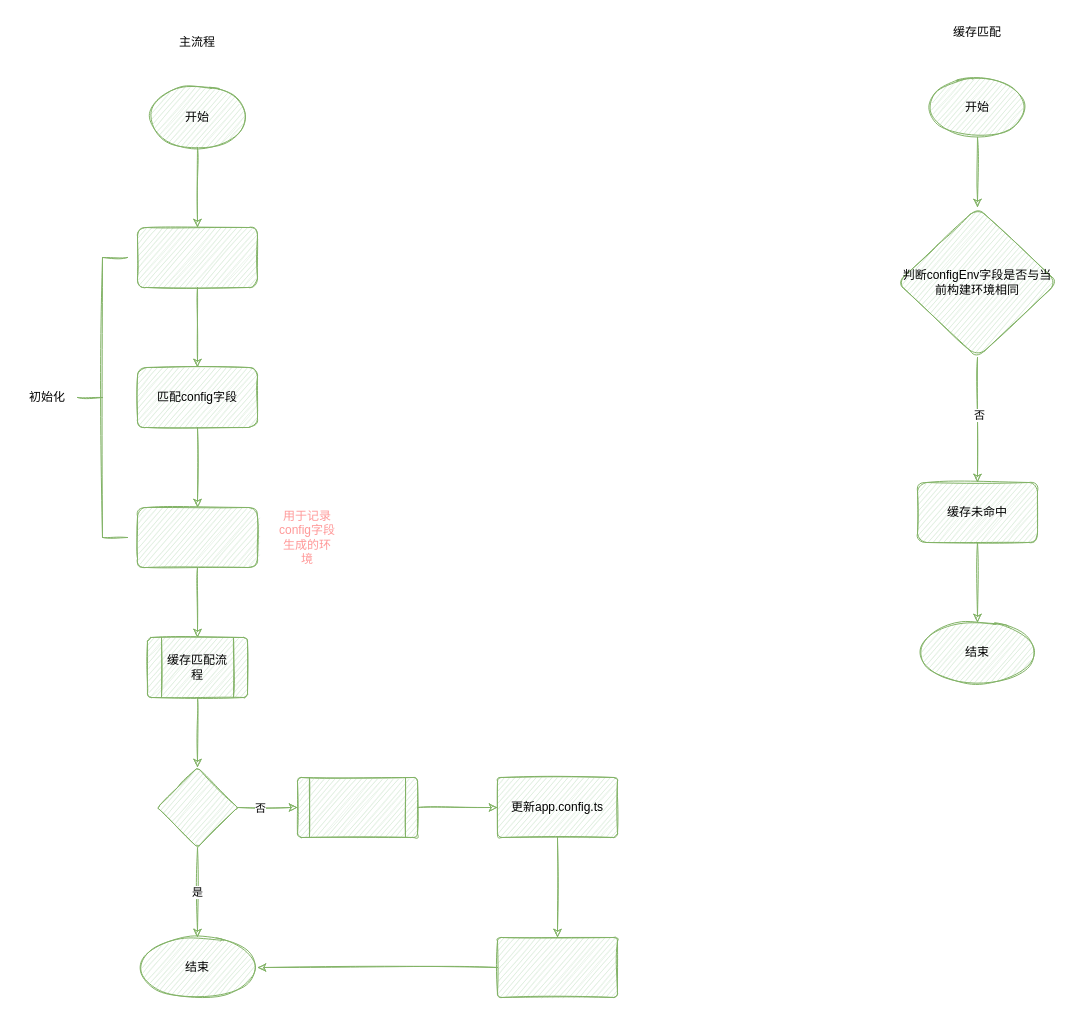
Image size: 1075x1015. Some labels were removed from this diagram. Each missing label, with the box of its shape:
匹配configEnv字段: (136, 506, 258, 568)
扫描项目目录生成config配置流程: (296, 776, 418, 838)
是否命中缓存: (156, 766, 238, 848)
更新缓存: (496, 936, 618, 998)
获取app.config.ts内容: (136, 226, 258, 288)
